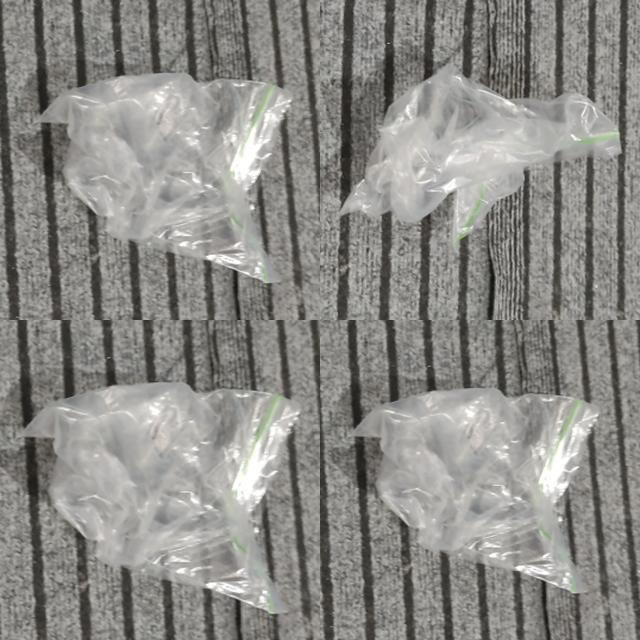Single-layer Plastic: (24, 382, 300, 614), (40, 74, 291, 282), (354, 389, 599, 592), (341, 65, 620, 242)
